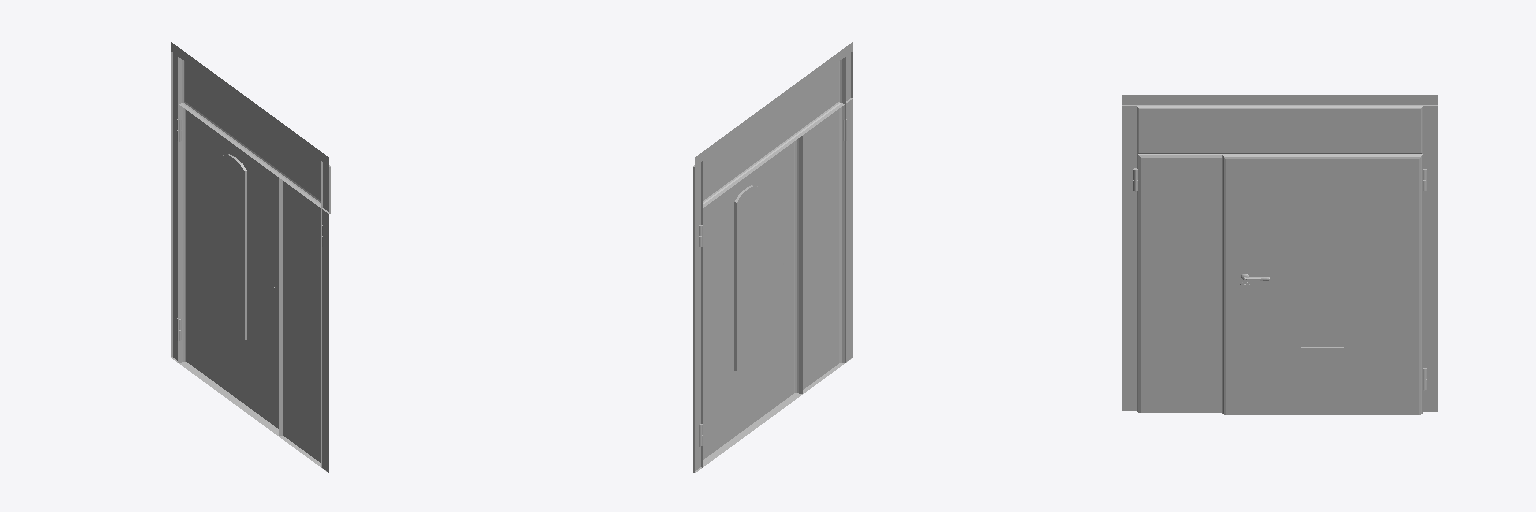
File: door_NY 1.obj
The picture shows the model from 3 angles: view 1: azimuth 30°, elevation 25°; view 2: azimuth 150°, elevation 25°; view 3: azimuth 270°, elevation 25°; orthographic projection.
Parts seen in each view (by area): view 1: Plane_low; view 2: Plane_low; view 3: Plane_low.
Part boxes in pixels (x1,y1,x2,y2): Plane_low: (171,42,330,472); Plane_low: (693,42,852,472); Plane_low: (1122,95,1437,414).
Bounding box in the file's own units: 0.0875 × 2 × 1.81.